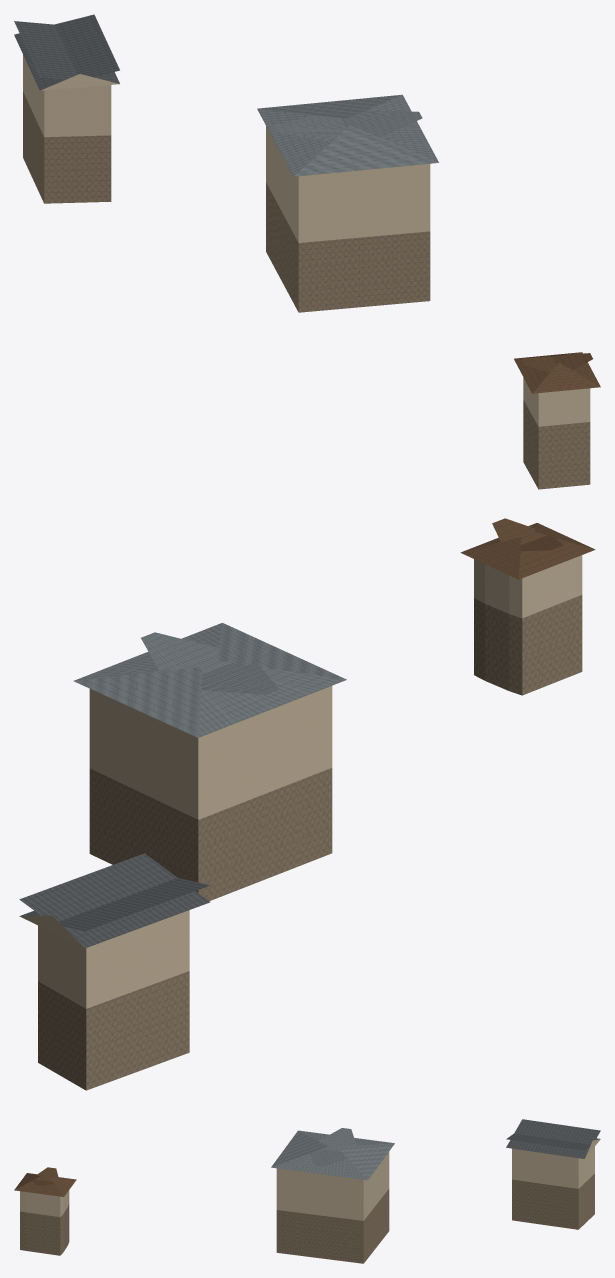
The model's file is bld_c36_-27_441.gltf.
3 renders of one model, top to bottom at view 1: azimuth 30°, elevation 25°; view 2: azimuth 150°, elevation 25°; view 3: azimuth 270°, elevation 25°, orthographic. The views are drawn at different scales.
Visible parts, largest first — view 1: bld_c36_-27_441; view 2: bld_c36_-27_441; view 3: bld_c36_-27_441.
Part boxes in pixels (box(x1,y1,x2,y2)): bld_c36_-27_441: box(14, 14, 600, 489); bld_c36_-27_441: box(19, 518, 595, 1090); bld_c36_-27_441: box(14, 1119, 600, 1263).
Size of the model in its own units: 18.19 by 12.7 by 63.34.
Materials: 6 (6 with a texture image).
